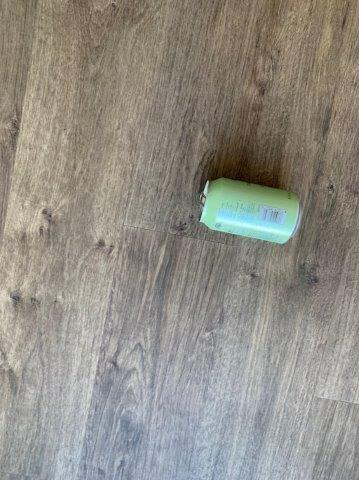kaleng: (199, 178, 299, 242)
